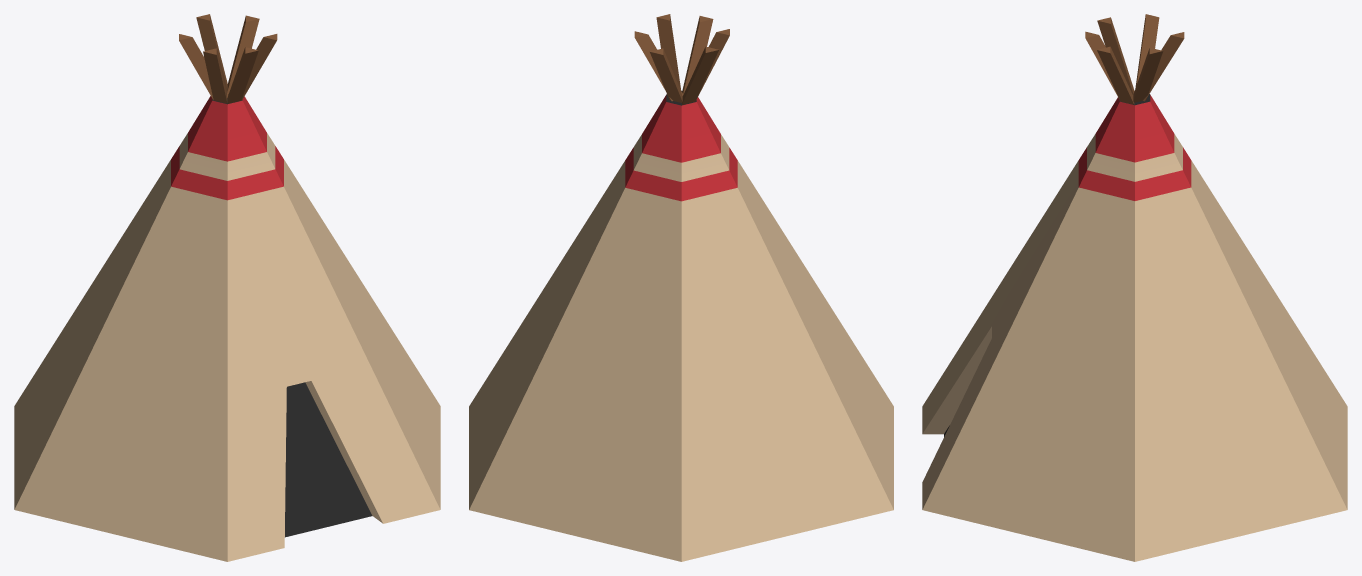
The model's file is tent-teepee.glb.
3 renders of one model, left to right at view 1: azimuth 30°, elevation 25°; view 2: azimuth 150°, elevation 25°; view 3: azimuth 270°, elevation 25°, orthographic.
Parts seen in each view (by area): view 1: tent-teepee; view 2: tent-teepee; view 3: tent-teepee.
Part boxes in pixels (bbox=[...]): tent-teepee: bbox=[14, 14, 440, 561]; tent-teepee: bbox=[469, 14, 893, 561]; tent-teepee: bbox=[922, 14, 1347, 561].
Bounding box in the file's own units: 3.62 × 3.45 × 3.14.
Materials: 1 (1 with a texture image).
